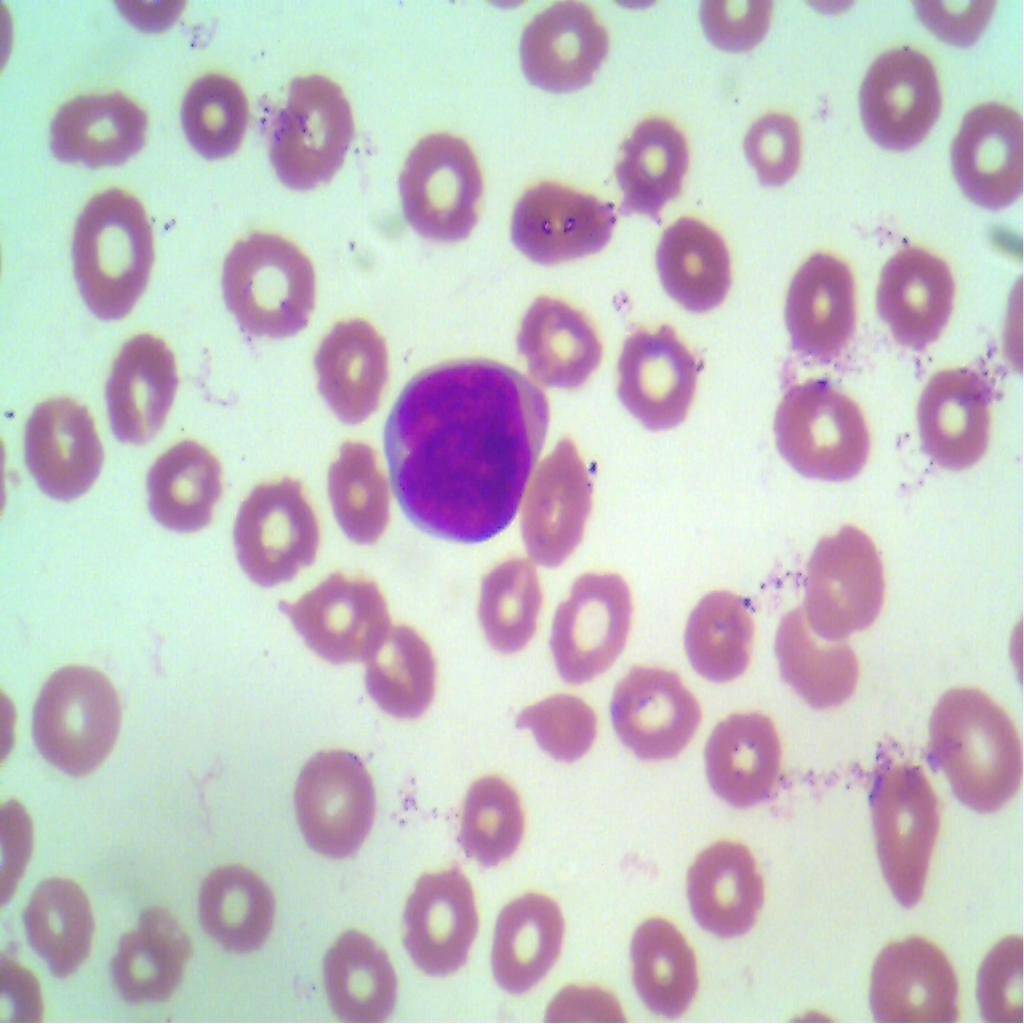Eritrosit: (750, 357, 870, 497), (259, 61, 354, 204), (21, 663, 133, 784), (98, 321, 201, 448), (46, 70, 164, 180), (926, 685, 1024, 817), (609, 307, 710, 434), (66, 184, 156, 326), (871, 752, 948, 917), (930, 81, 1024, 214), (388, 116, 482, 246), (776, 238, 866, 370), (518, 424, 596, 575), (482, 874, 572, 1002), (218, 232, 323, 340), (874, 232, 964, 358), (593, 657, 708, 755), (774, 588, 862, 714), (546, 562, 636, 684), (509, 292, 609, 401), (911, 358, 1001, 479), (615, 906, 708, 1023), (806, 505, 886, 641), (502, 168, 615, 264), (511, 0, 618, 101), (226, 474, 323, 584), (292, 738, 378, 862), (868, 918, 968, 1023), (308, 911, 398, 1023), (103, 888, 184, 1012), (392, 864, 482, 975), (674, 815, 756, 935), (449, 752, 535, 864), (29, 392, 113, 506), (144, 424, 226, 538), (654, 222, 743, 327), (859, 48, 946, 155), (681, 572, 768, 677), (28, 864, 99, 991), (308, 322, 390, 431), (290, 562, 384, 657), (710, 701, 788, 815), (175, 54, 251, 168), (198, 850, 276, 959), (326, 442, 406, 544), (738, 98, 818, 195), (614, 121, 695, 211), (476, 558, 546, 657), (368, 620, 438, 714), (524, 680, 601, 764)
Limfoblast: (379, 351, 553, 548)
